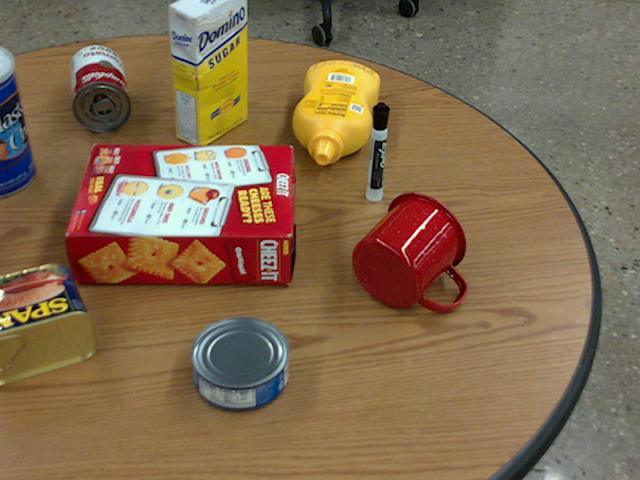cracker_box: (68, 143, 292, 283)
large_marker: (367, 102, 388, 201)
master_chef_can: (0, 45, 35, 197)
mug: (352, 192, 467, 309)
mustard_bottle: (292, 62, 379, 164)
potted_meat_can: (0, 261, 96, 383)
sugar_box: (169, 0, 246, 148)
tomato_soup_can: (70, 46, 130, 131)
tuna_fish_can: (189, 316, 287, 410)
